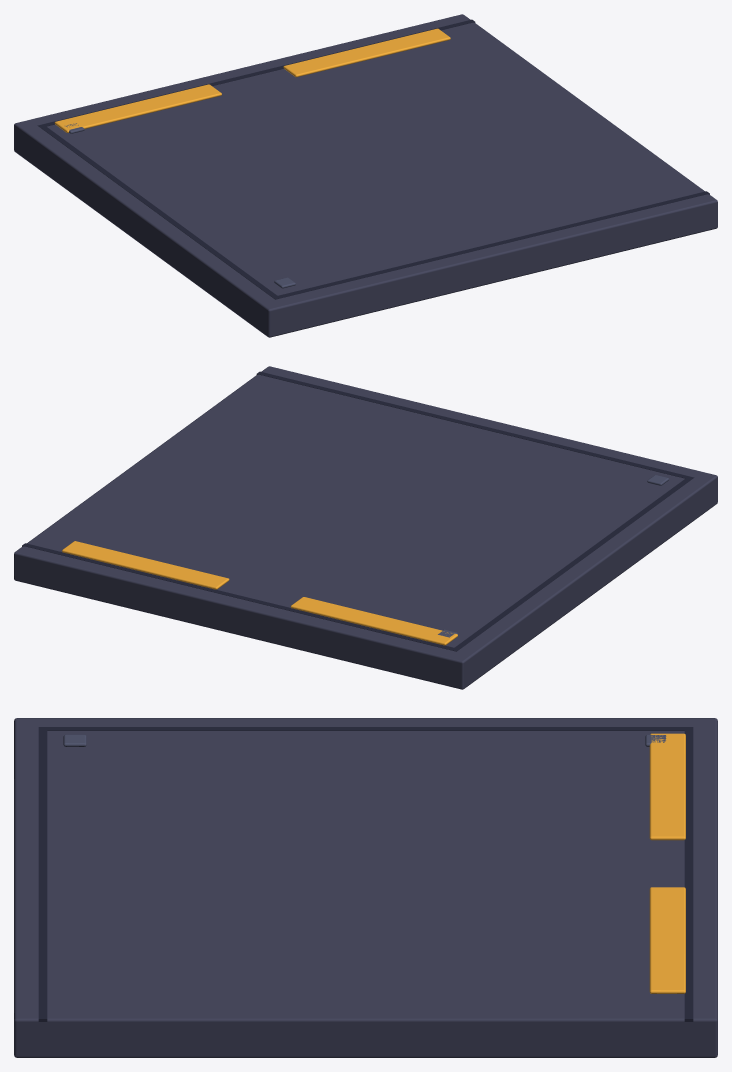
The model's file is floor.plate.WSN+hzdn.glb.
3 renders of one model, top to bottom at view 1: azimuth 30°, elevation 25°; view 2: azimuth 150°, elevation 25°; view 3: azimuth 270°, elevation 25°, orthographic. The views are drawn at different scales.
Parts seen in each view (by area): view 1: floor.plate.WSN+hzdn; view 2: floor.plate.WSN+hzdn; view 3: floor.plate.WSN+hzdn.
Part boxes in pixels (bbox=[...]): floor.plate.WSN+hzdn: bbox=[14, 14, 717, 337]; floor.plate.WSN+hzdn: bbox=[14, 366, 717, 689]; floor.plate.WSN+hzdn: bbox=[14, 718, 717, 1057].
Bounding box in the file's own units: 0.984 × 0.066 × 0.968.
